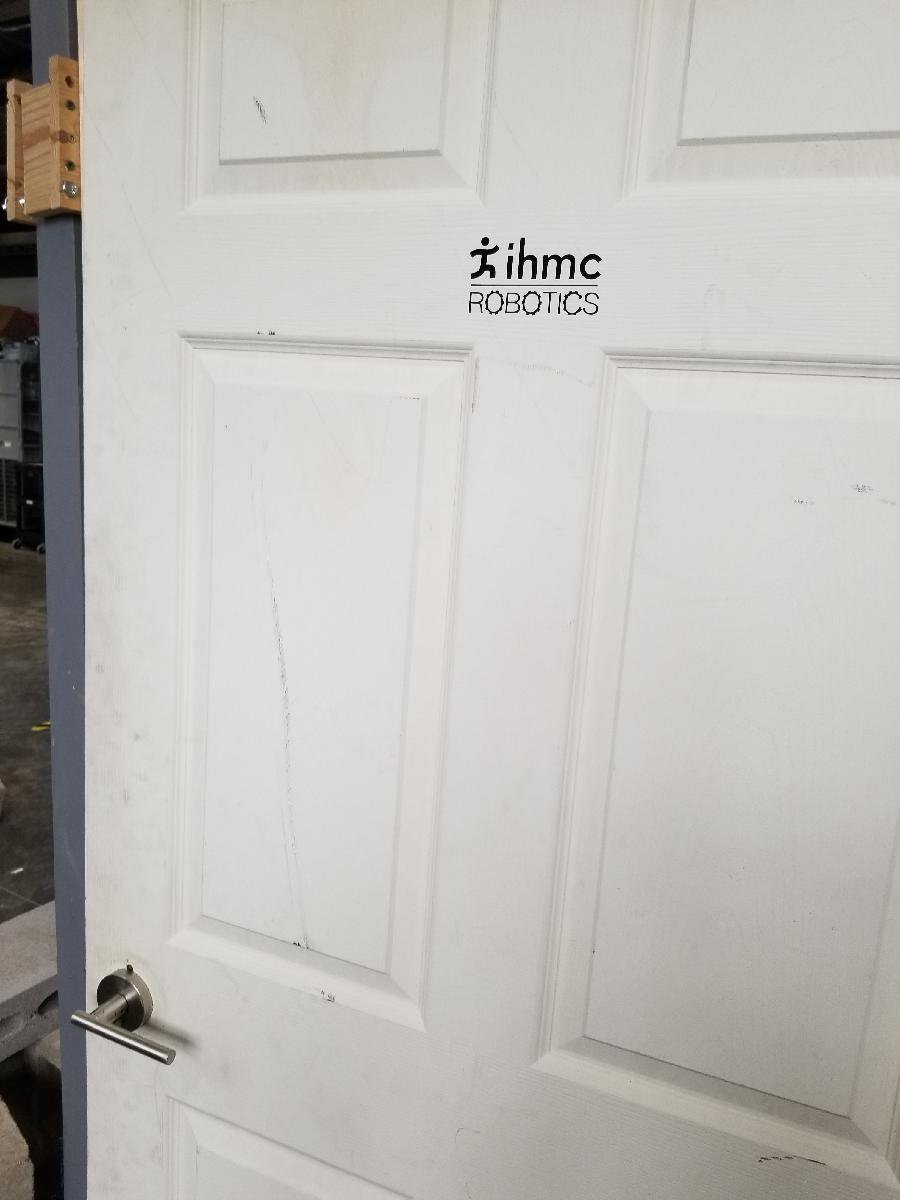doorHandle: (68, 964, 182, 1064)
